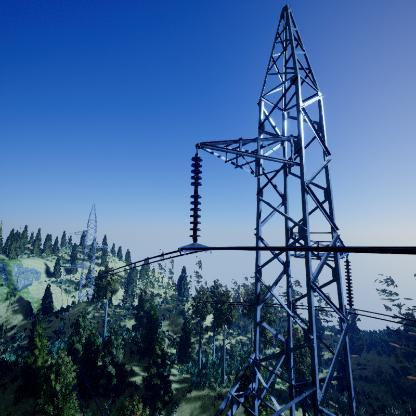insulator: (188, 155, 204, 240), (342, 259, 357, 312)
tower: (72, 201, 108, 303)
